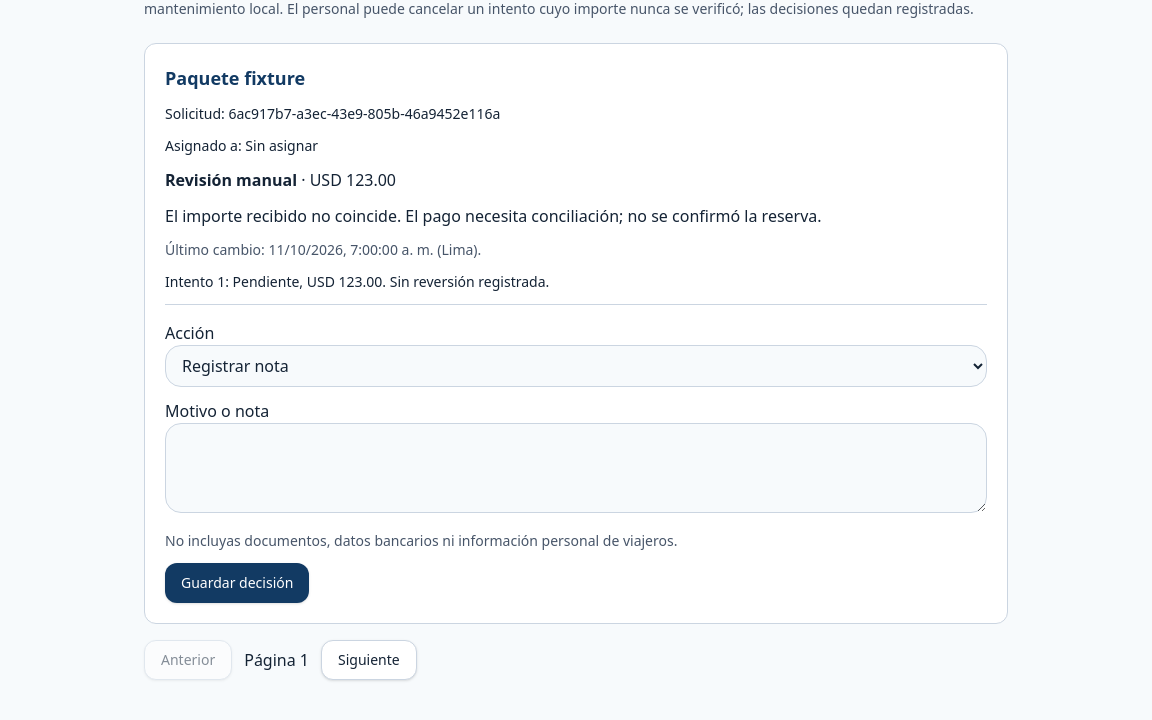
Test: pagina las incidencias y oculta la página anterior durante una nueva consulta
The image size is (1152, 720).
(page scrolled)
Expected: the heading "Paquete fixture" is shown, [165,66,305,90]
Expected: the text "El importe recibido no coincide" is shown, [165,205,822,227]
Click the button "Siguiente": click(369, 660) [321,640,417,680]
(page scrolled)
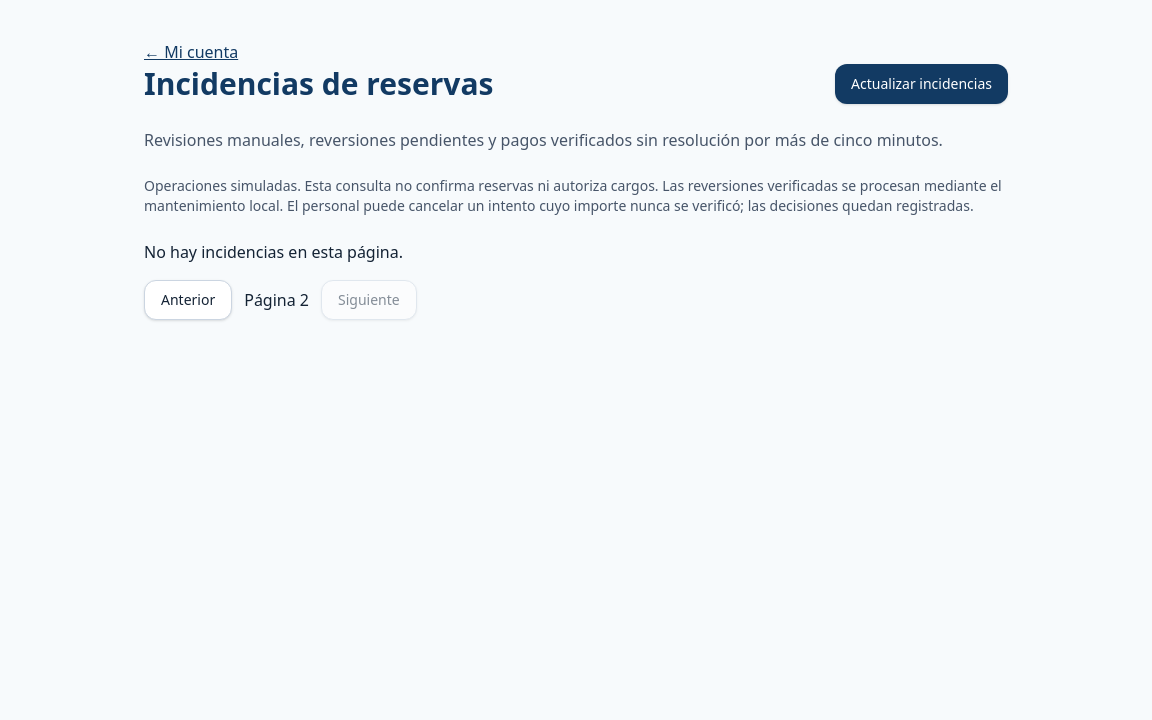
Result: the text "Página 2" is shown at [244,288,309,312]
Result: the heading "Paquete fixture" is gone
